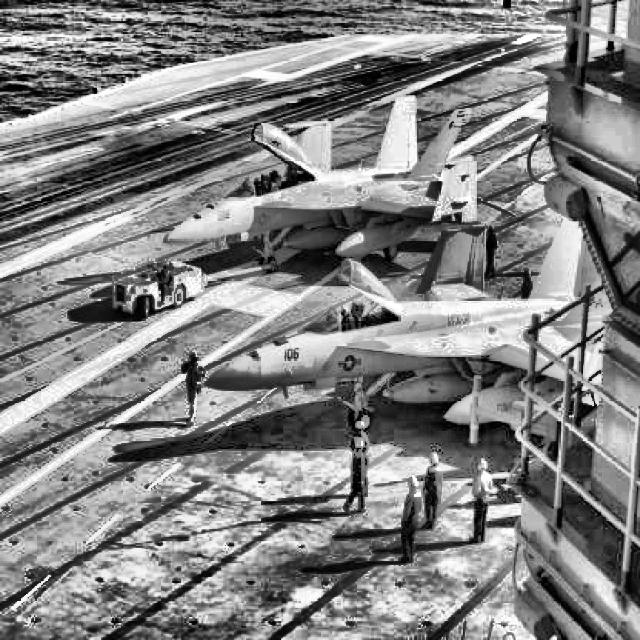F18: (203, 218, 612, 430), (162, 95, 478, 274)
